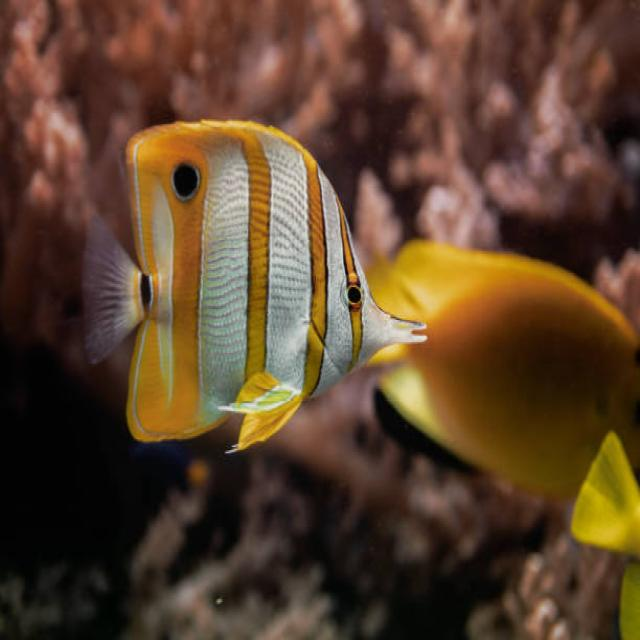ButterflyFish: (87, 117, 427, 474)
